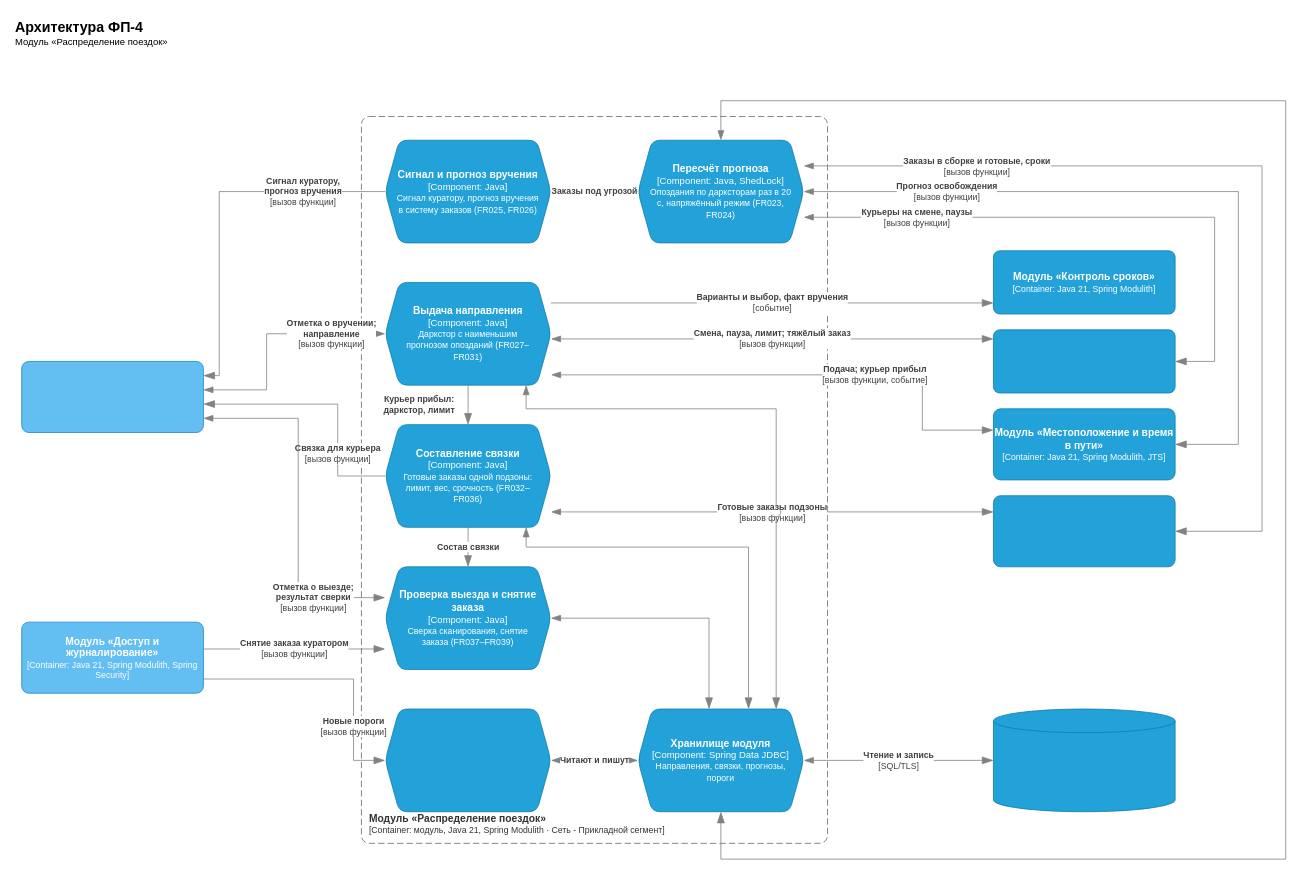
The diagram is 1311 pixels wide and 884 high, and some of its shapes have lost their labels. The centre of each missing label's shape, as x and y in pixels:
"БД кластера [Container: PostgreSQL 16, Patroni + etcd] Схема d04" belongs at [1084,760].
"Изменение параметров [Component: Java] Пороги в долях обещания (FR040)" belongs at [467,760].
"Модуль «Заказы к выдаче» [Container: Java 21, Spring Modulith]" belongs at [1084,531].
"Модуль «Интеграции» [Container: Java 21, Spring Modulith]" belongs at [112,397].
"Модуль «Курьеры» [Container: Java 21, Spring Modulith]" belongs at [1084,361].
